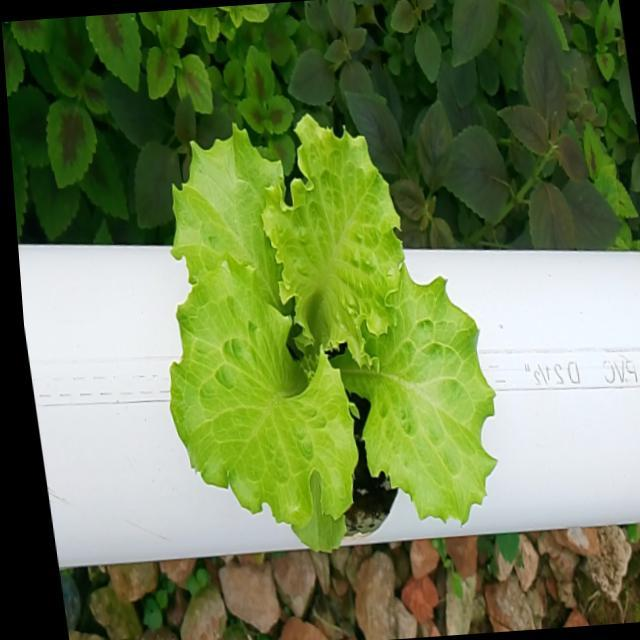Baby: (171, 115, 496, 551)
